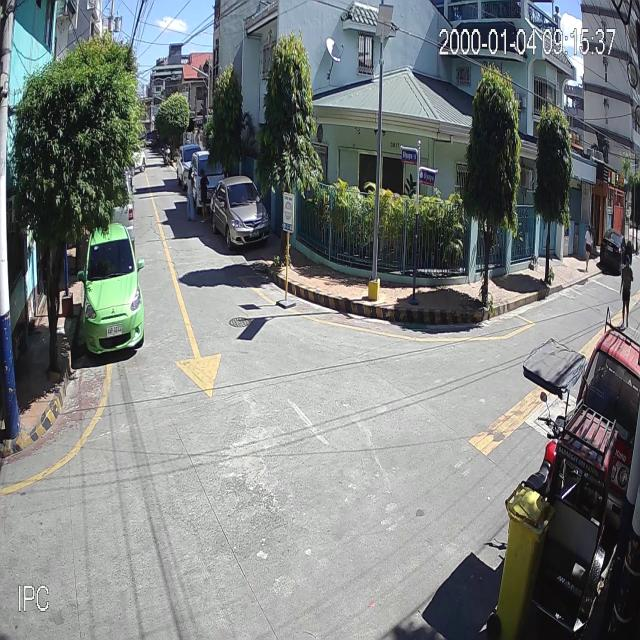standing: (200, 170, 210, 226), (187, 167, 196, 222)
walking: (621, 255, 635, 327), (584, 224, 594, 272)
